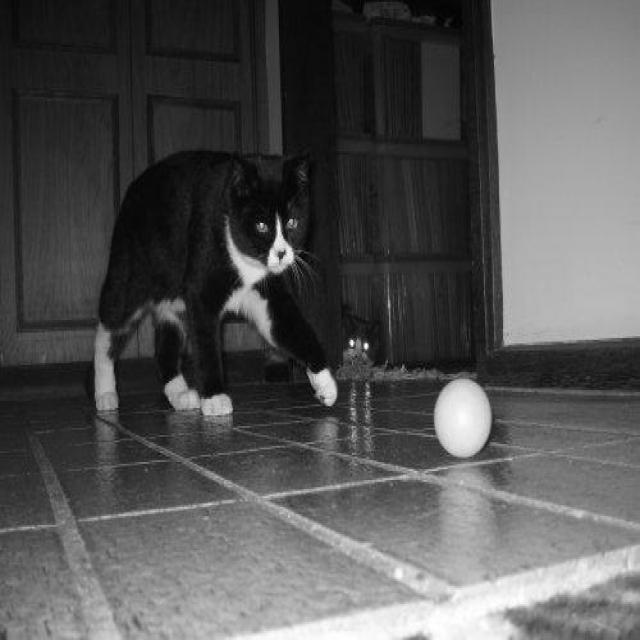ping-pong-ball: (428, 374, 496, 458)
